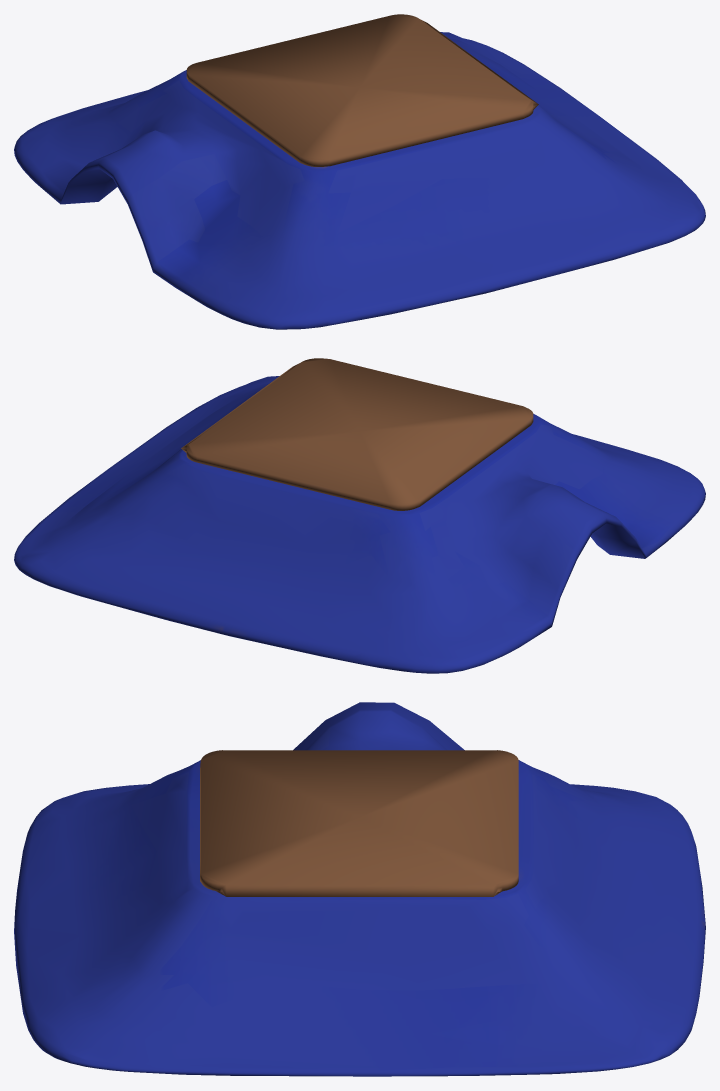
The model's file is kota.obj.
3 views of the same model, one above another, from view 1: azimuth 30°, elevation 25°; view 2: azimuth 150°, elevation 25°; view 3: azimuth 270°, elevation 25° (orthographic). The views are drawn at different scales.
Parts seen in each view (by area): view 1: foot; view 2: foot; view 3: foot.
Part boxes in pixels (x1,y1,x2,y2): foot: (14, 14, 705, 329); foot: (14, 358, 705, 673); foot: (14, 702, 705, 1076).
Size of the model in its own units: 83.43 by 15.76 by 84.33.
1 material, 1 textured.
